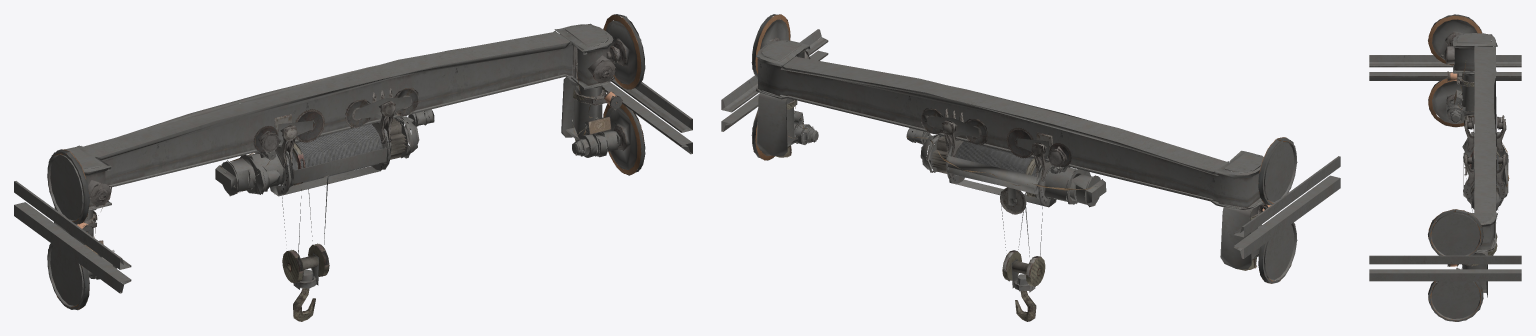
The model's file is crane.gltf.
3 renders of one model, left to right at view 1: azimuth 30°, elevation 25°; view 2: azimuth 150°, elevation 25°; view 3: azimuth 270°, elevation 25°, orthographic. The views are drawn at different scales.
Parts seen in each view (by area): view 1: overhead_crane_rails; view 2: overhead_crane_rails; view 3: overhead_crane_rails.
Boxes of the visible parts, x1,y1,x2,y2 form: overhead_crane_rails: [14, 14, 692, 321]; overhead_crane_rails: [721, 14, 1340, 321]; overhead_crane_rails: [1369, 14, 1521, 321].
Bounding box in the file's own units: 12.49 × 5.15 × 4.
Materials: 2 (2 with a texture image).
